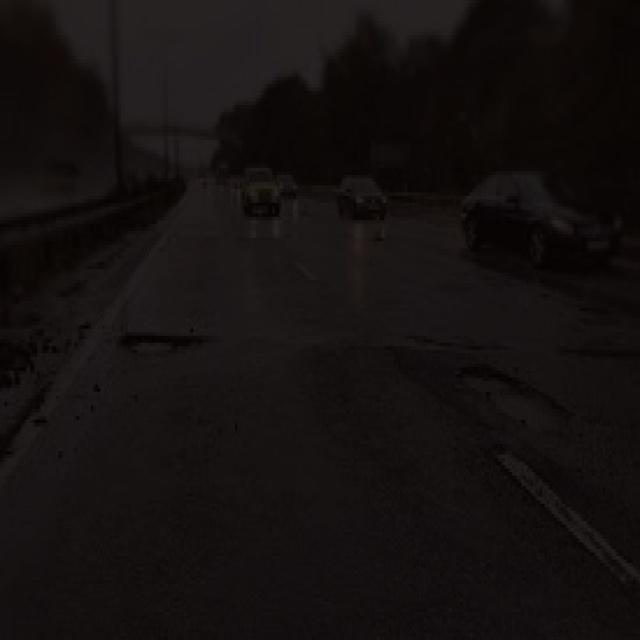Pothole: (447, 356, 567, 433), (111, 327, 209, 364)
